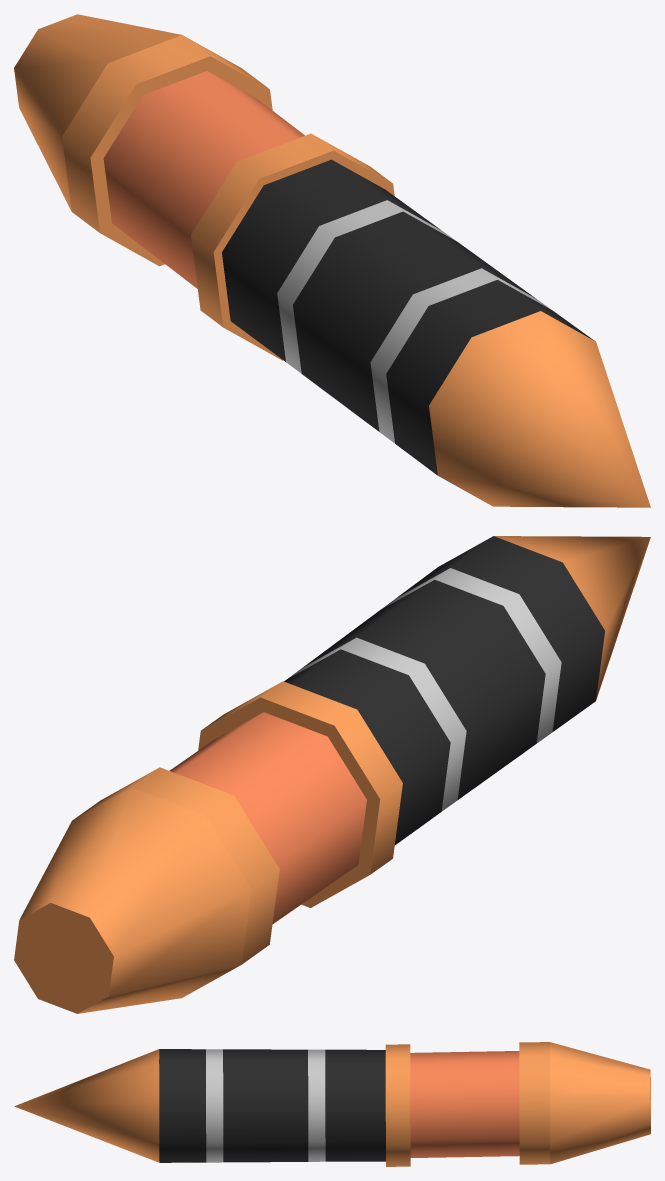
File: Bullet.fbx
3 renders of one model, top to bottom at view 1: azimuth 30°, elevation 25°; view 2: azimuth 150°, elevation 25°; view 3: azimuth 270°, elevation 25°, orthographic. The views are drawn at different scales.
Parts seen in each view (by area): view 1: Bullet; view 2: Bullet; view 3: Bullet.
Boxes of the visible parts, box(x1,y1,x2,y2) form: Bullet: box(14, 14, 650, 507); Bullet: box(14, 536, 650, 1013); Bullet: box(14, 1042, 650, 1166).
Size of the model in its own units: 7.09 by 38.08 by 7.26.
